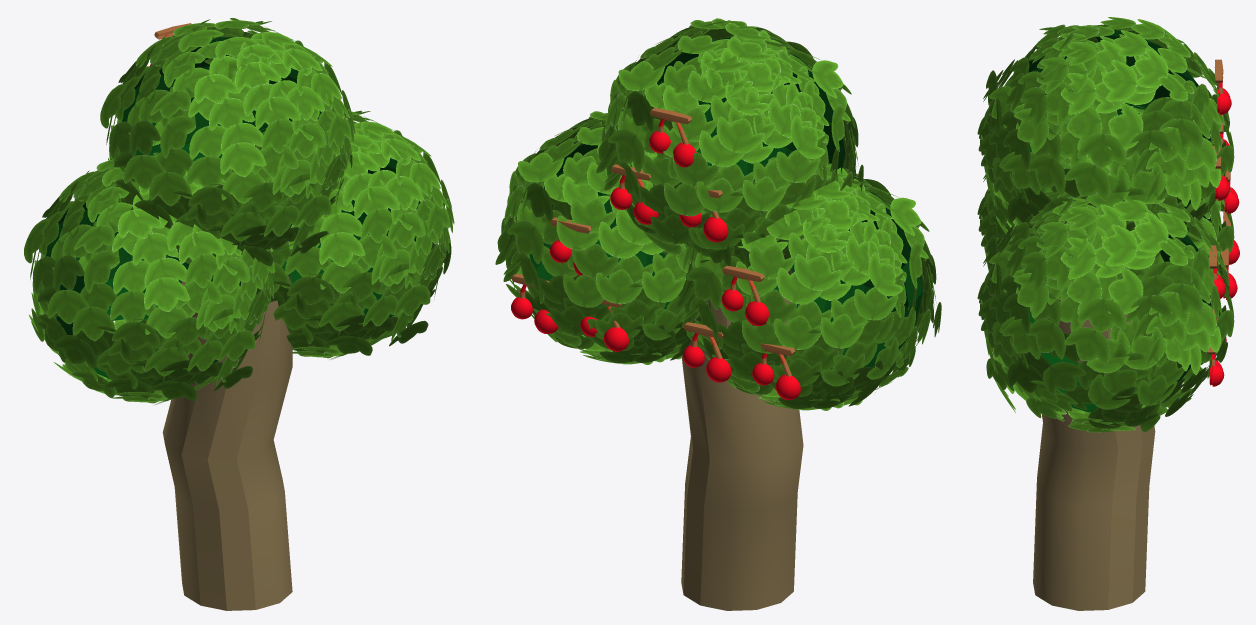
The model's file is cherry_tree.fbx.
3 views of the same model, side by side, from view 1: azimuth 30°, elevation 25°; view 2: azimuth 150°, elevation 25°; view 3: azimuth 270°, elevation 25° (orthographic).
Parts seen in each view (by area): view 1: cherry_tree; view 2: cherry_tree; view 3: cherry_tree.
Part boxes in pixels (x1,y1,x2,y2): cherry_tree: (24,18,454,610); cherry_tree: (495,18,941,610); cherry_tree: (977,17,1239,610).
Bounding box in the file's own units: 350 × 452 × 195.
Materials: 4 (2 with a texture image).
